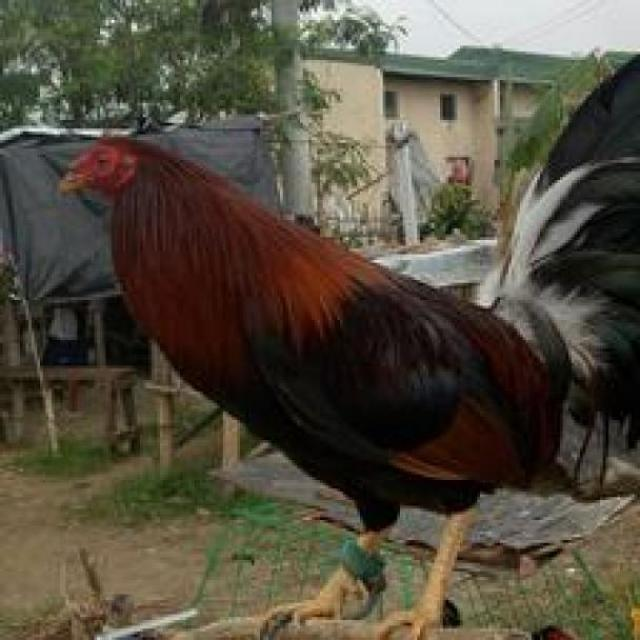Chicken: (67, 101, 620, 640)
